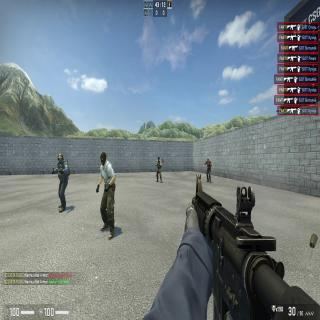CT-Body: (57, 154, 68, 213), (156, 156, 162, 182)
CT-Head: (58, 154, 64, 165), (157, 156, 160, 161)
T-Body: (98, 151, 115, 241), (205, 157, 212, 182)
T-Head: (99, 150, 107, 165), (207, 157, 209, 162)
